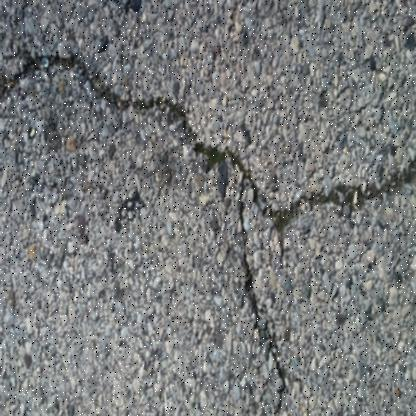Cracks: (0, 43, 415, 236), (235, 170, 290, 416)
